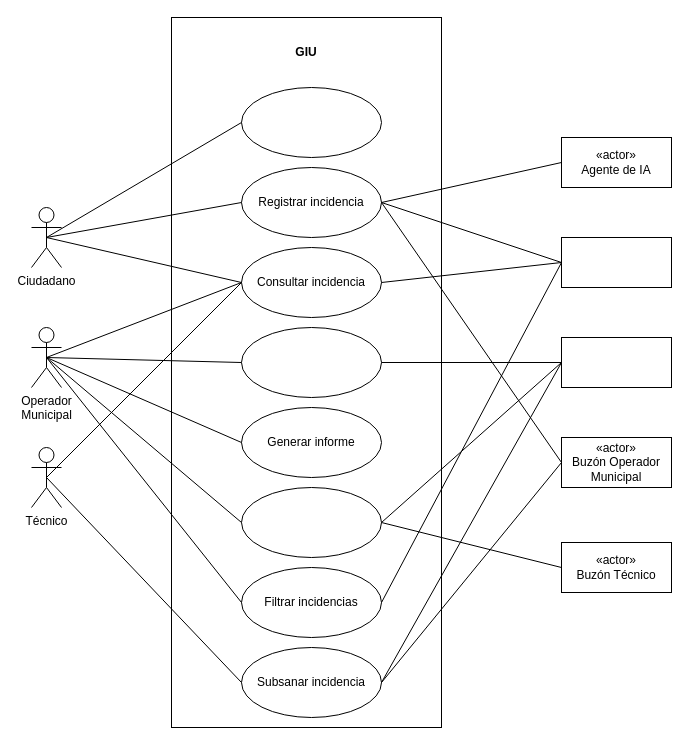
The diagram is 689 pixels wide and 745 high, and some of its shapes have lost their labels. Each missing label, with the centre of its shape:
"Asignar incidencia" belongs at (x=311, y=522).
"Registrar usuario" belongs at (x=311, y=122).
"Validar incidencia" belongs at (x=311, y=362).
"«actor» Buzón Ciudadano" belongs at (x=616, y=362).
"«actor» Servicio de mapas" belongs at (x=616, y=262).
